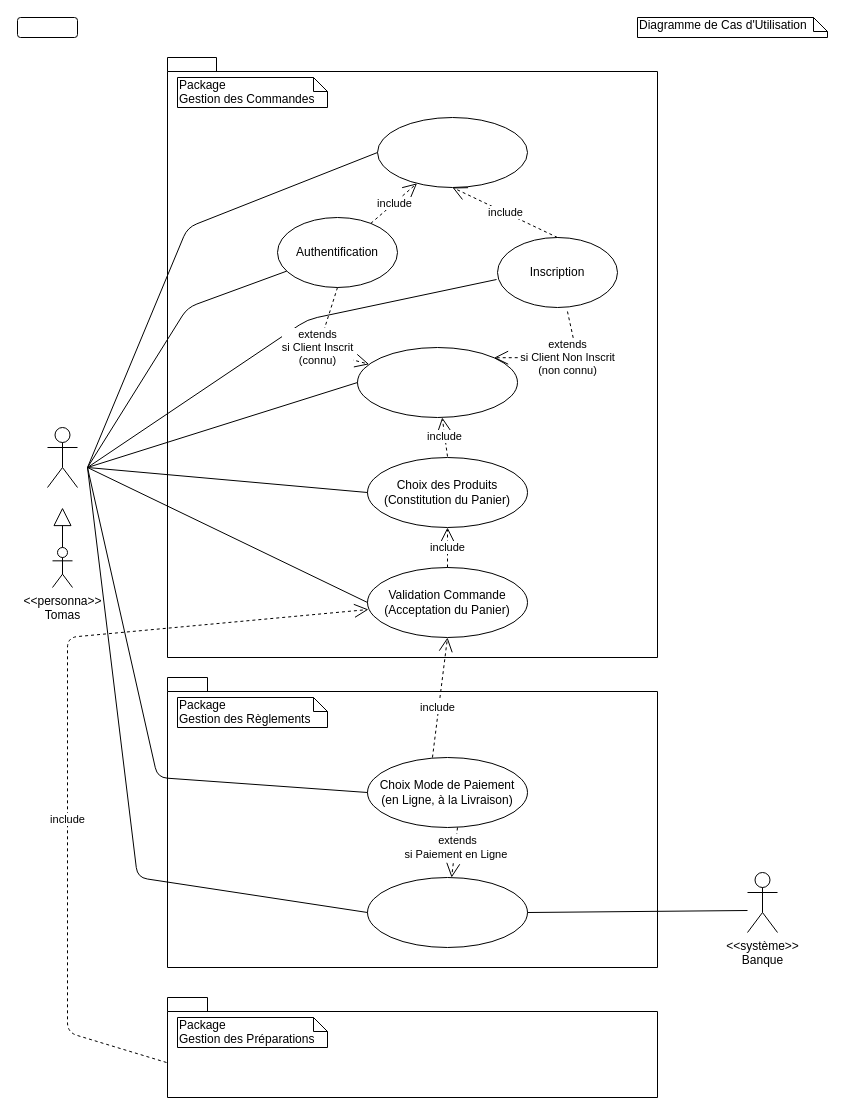
This 845x1115 diagram has some shape labels left out. Here are the shapes that lost their labels. From the top down, the box of each, then its label:
(16, 16, 78, 38): OC'Pizza
(376, 116, 528, 188): Connection au Système
(356, 346, 518, 418): Consultation des Produits (pizzas, autres, boissons)
(46, 426, 78, 488): Client
(366, 876, 528, 948): Paiement en Ligne
